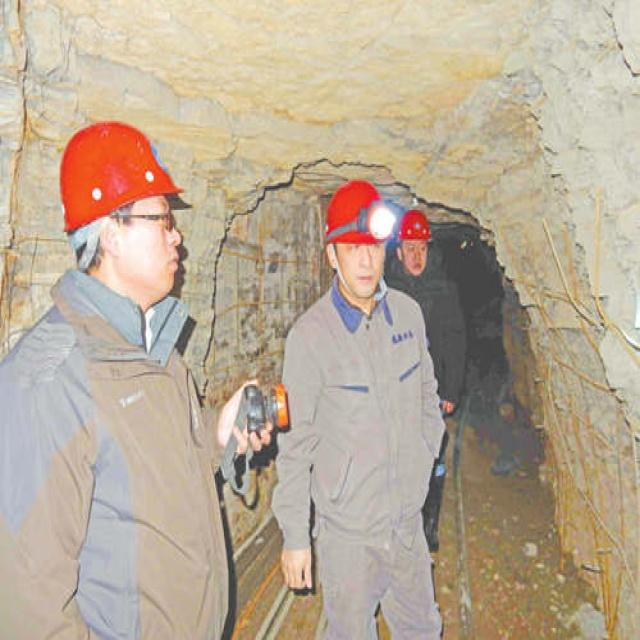helmet: (56, 160, 188, 412), (316, 240, 392, 407), (391, 275, 433, 372)
